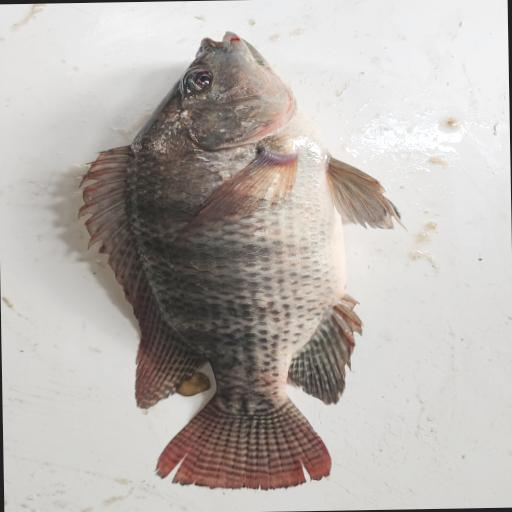Tilapia: (75, 27, 411, 494)
